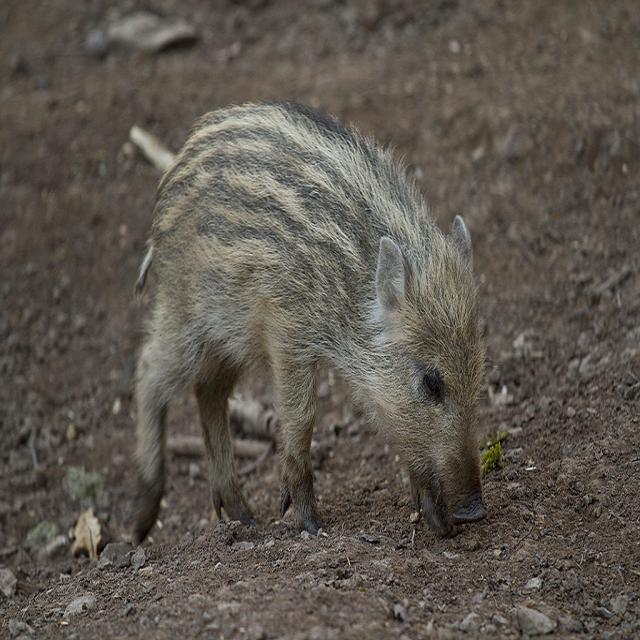Pig: (118, 95, 499, 552)
